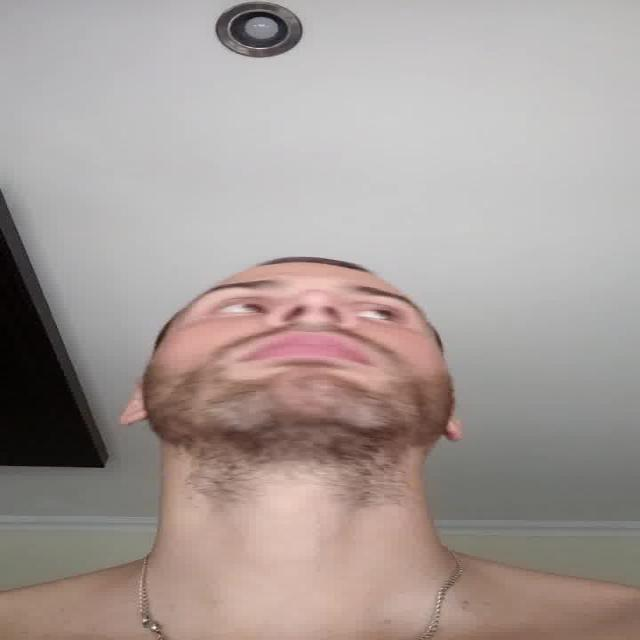earlobe: (120, 402, 152, 426), (444, 416, 464, 442)
eye: (213, 300, 270, 316), (349, 306, 405, 320)
nose: (269, 312, 348, 334)
